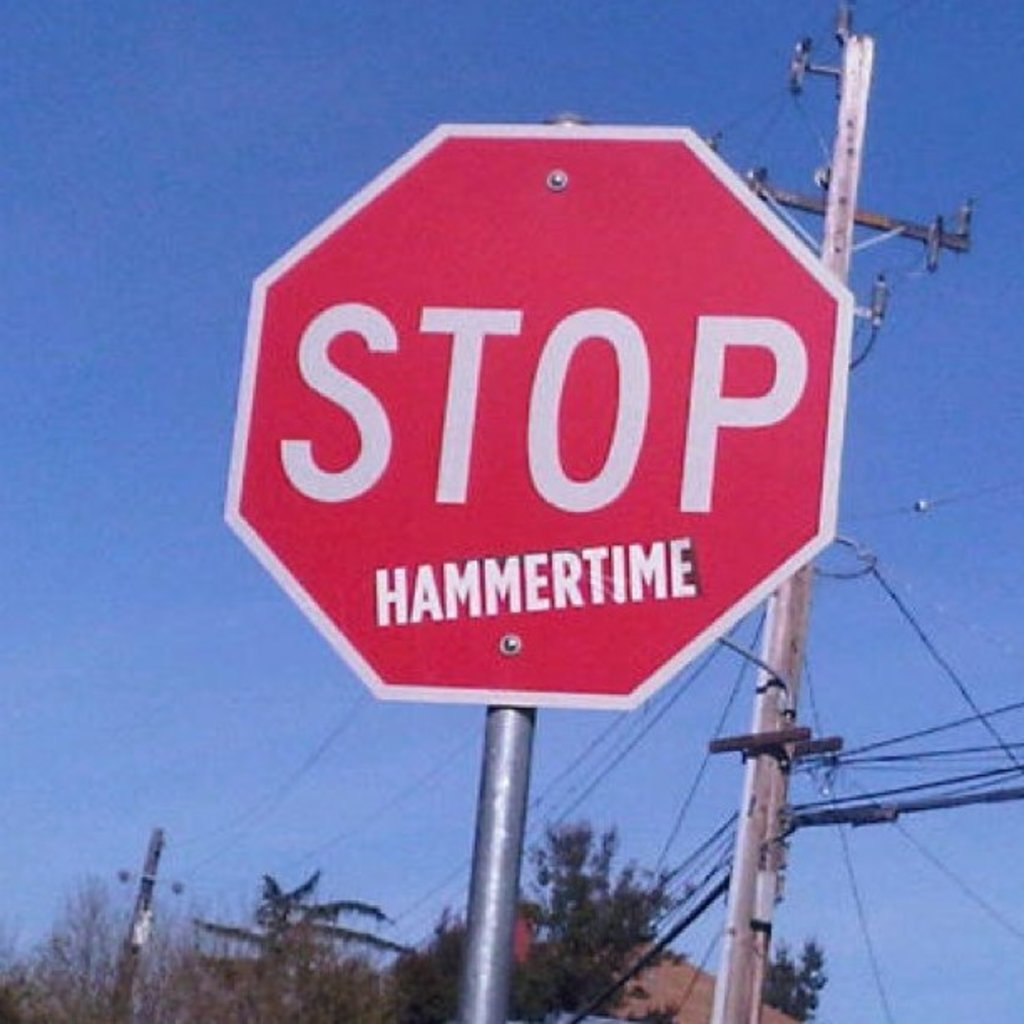stop: (235, 121, 856, 715)
